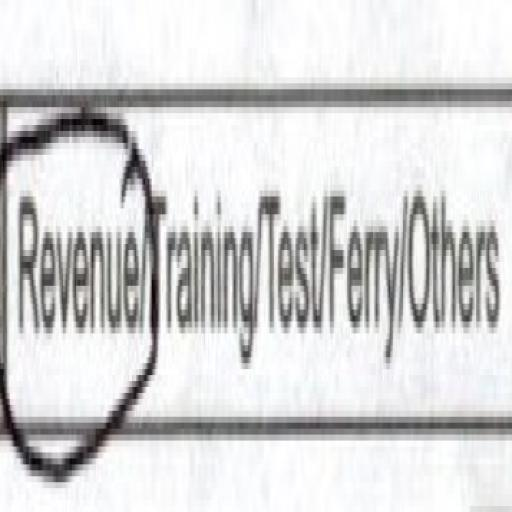check: (0, 38, 155, 496)
